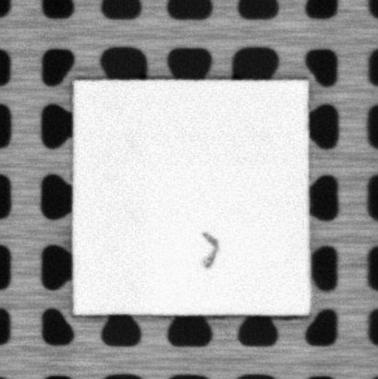DIE_INK: (200, 231, 219, 270)
